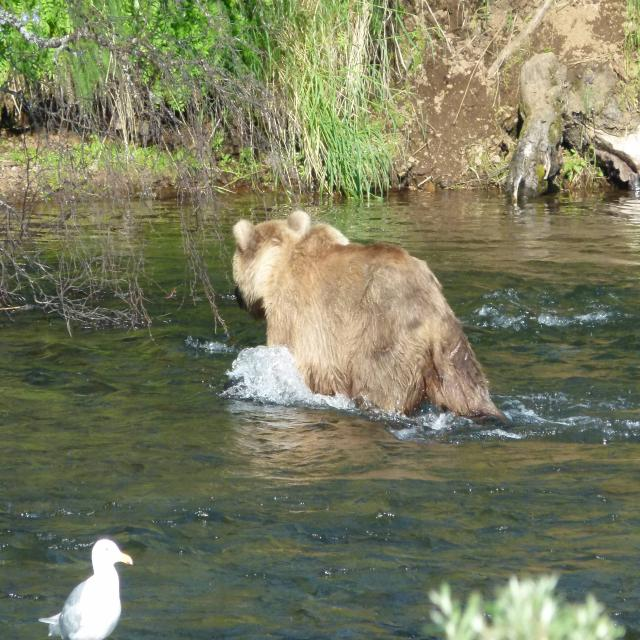bear face: (233, 211, 499, 414)
